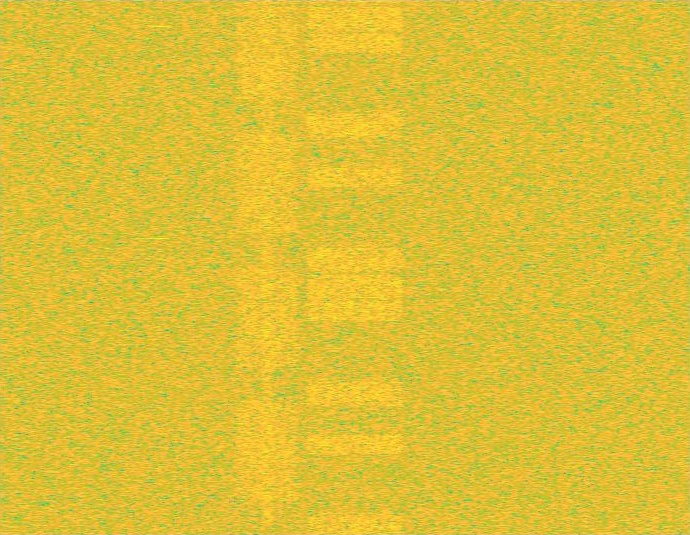5G: (233, 0, 302, 534)
DSSS: (260, 0, 275, 534)
LTE: (303, 0, 407, 534)
Radar: (153, 0, 167, 534)
